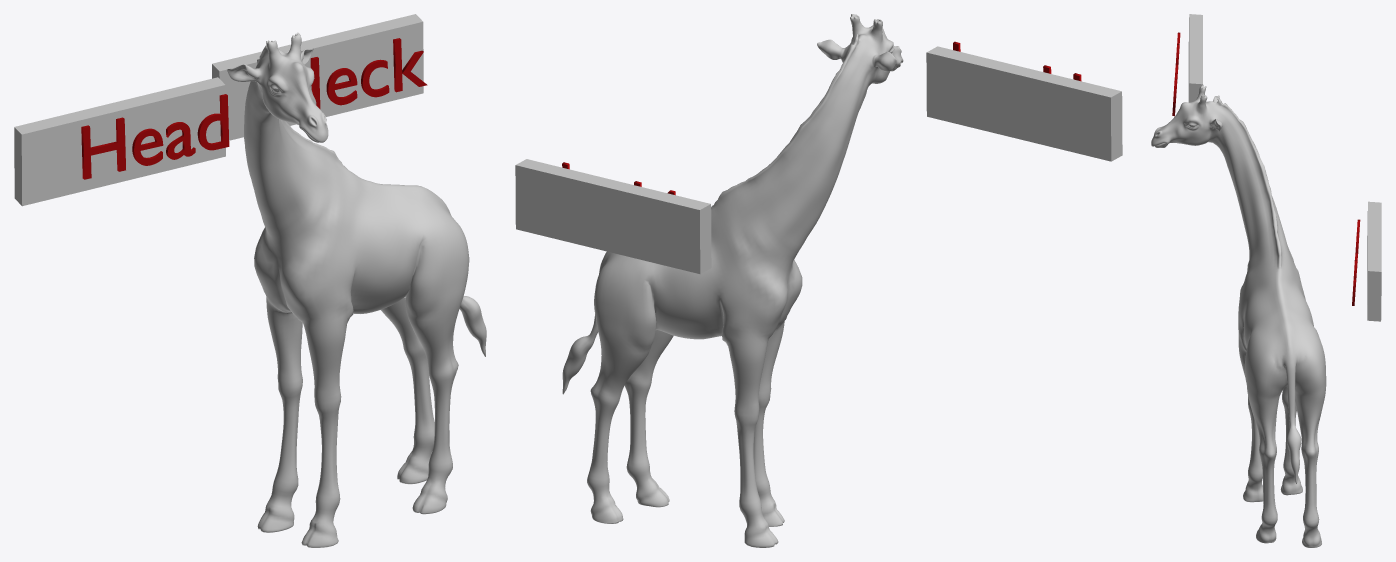
The picture shows the model from 3 angles, left to right: view 1: azimuth 30°, elevation 25°; view 2: azimuth 150°, elevation 25°; view 3: azimuth 270°, elevation 25°; orthographic projection. The views are drawn at different scales.
Parts seen in each view (by area): view 1: node_id100_mesh_id101, Cube.001_Cube.002, Cube_Cube.001, Text.001, Text; view 2: node_id100_mesh_id101, Cube.001_Cube.002, Cube_Cube.001; view 3: node_id100_mesh_id101, Cube_Cube.001, Cube.001_Cube.002, Text.
Boxes of the visible parts, x1,y1,x2,y2 form: node_id100_mesh_id101: (227,32,486,547); Cube.001_Cube.002: (14,77,225,206); Cube_Cube.001: (212,14,423,140); Text.001: (81,94,229,179); Text: (310,38,427,108); node_id100_mesh_id101: (562,14,903,547); Cube.001_Cube.002: (926,46,1122,161); Cube_Cube.001: (515,159,711,274); node_id100_mesh_id101: (1151,84,1326,547); Cube_Cube.001: (1367,201,1381,321); Cube.001_Cube.002: (1188,14,1202,102); Text: (1352,219,1360,305).
Size of the model in its own units: 1.64 by 1.59 by 0.8656.
